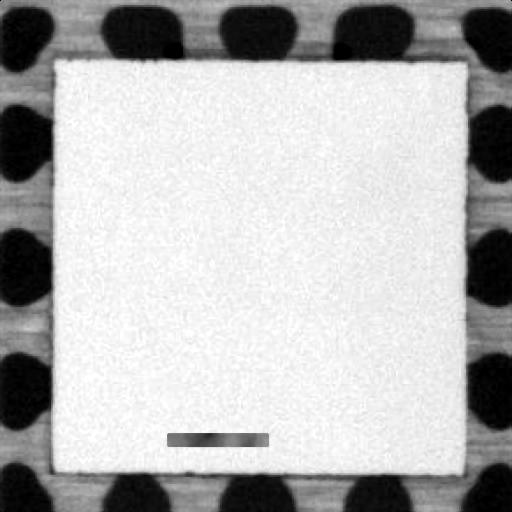DIE_INK: (165, 433, 266, 447)
